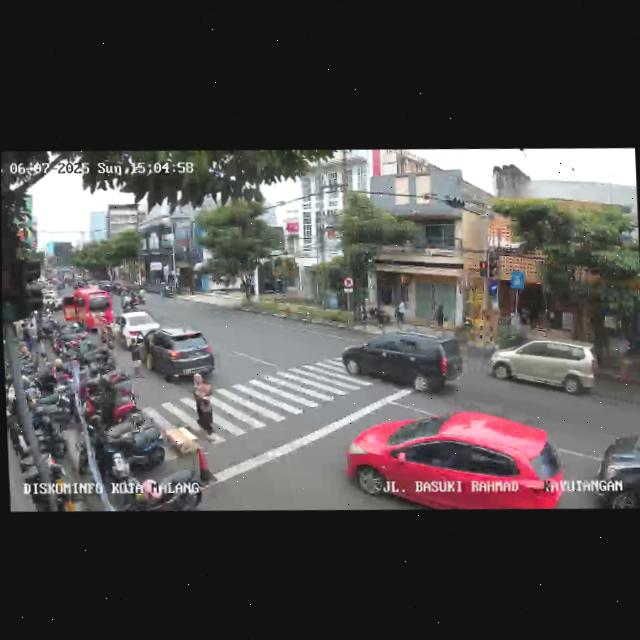car: (345, 405, 565, 515), (340, 326, 461, 399), (490, 333, 600, 404), (131, 324, 218, 386), (591, 425, 640, 509), (61, 286, 113, 335), (112, 308, 163, 349)
person: (189, 368, 218, 442)
